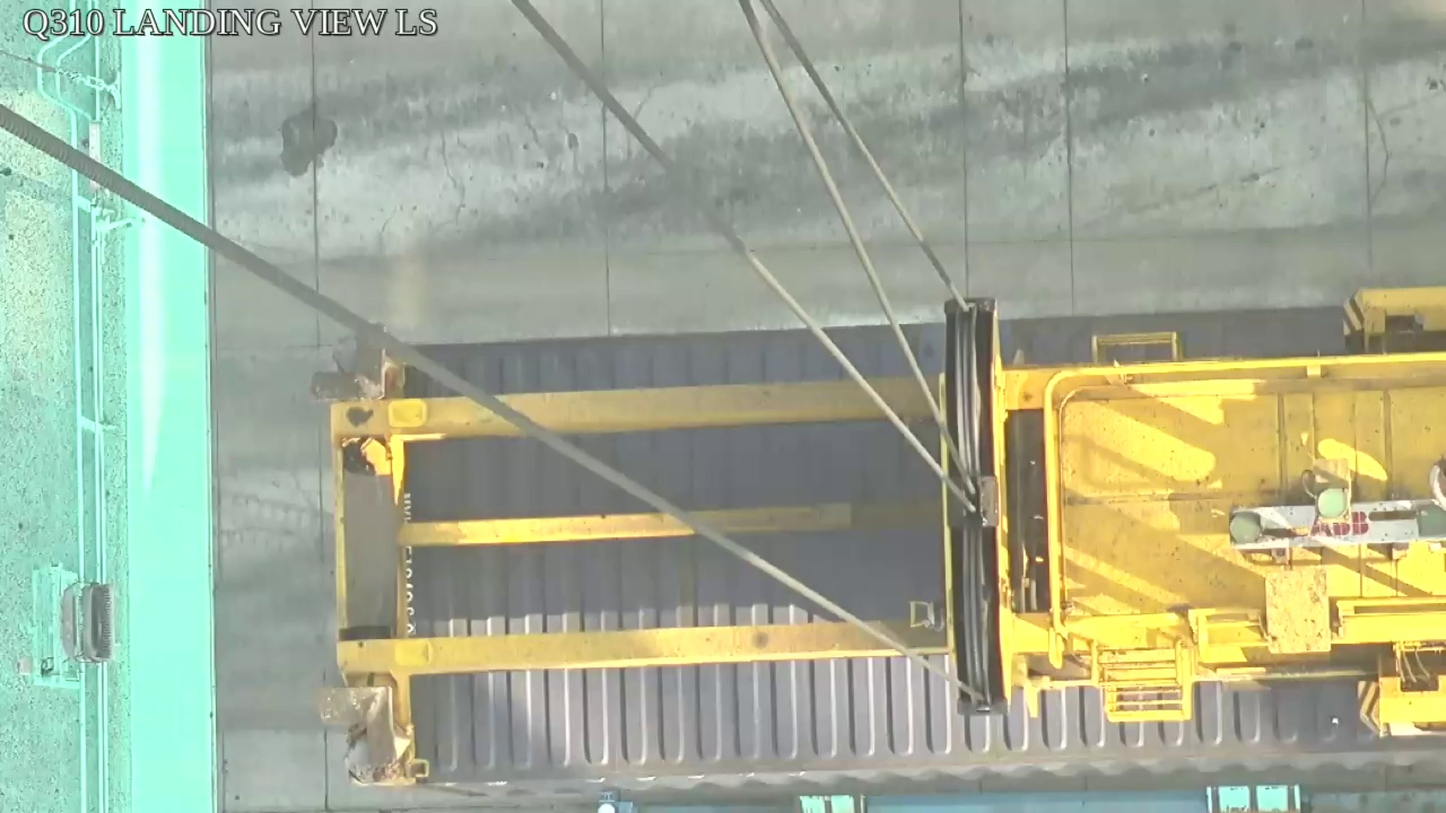aa: (938, 299, 1011, 717)
